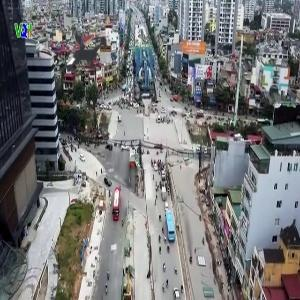drone: (31, 3, 134, 106)
